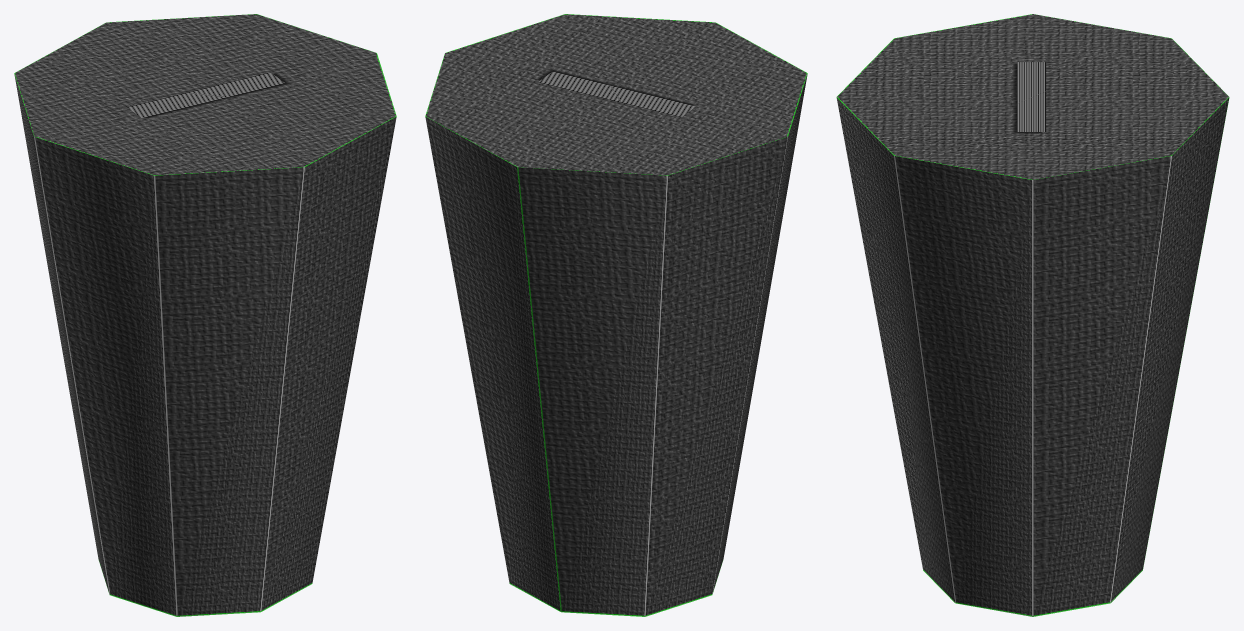
File: TrashCan_003.fbx
3 renders of one model, left to right at view 1: azimuth 30°, elevation 25°; view 2: azimuth 150°, elevation 25°; view 3: azimuth 270°, elevation 25°, orthographic.
Visible parts, largest first — view 1: Cylinder001; view 2: Cylinder001; view 3: Cylinder001.
Part boxes in pixels (x1,y1,x2,y2): Cylinder001: (14,14,396,616); Cylinder001: (425,14,807,616); Cylinder001: (836,14,1229,616).
Bounding box in the file's own units: 75.25 × 100 × 75.25.
1 material, 1 textured.
